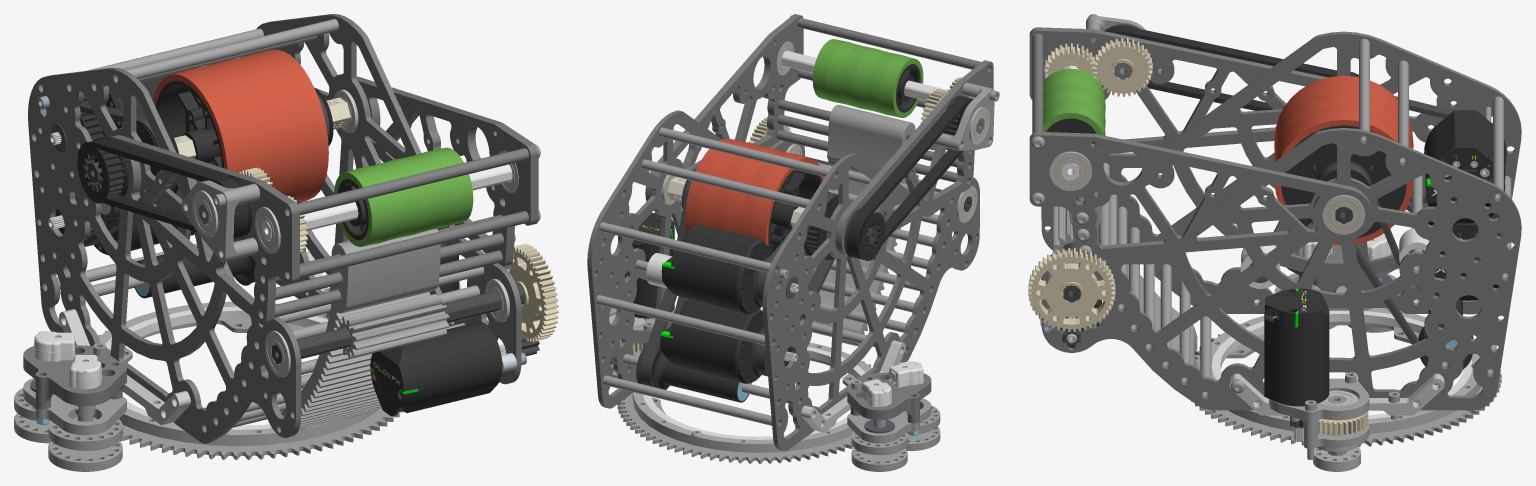
The picture shows the model from 3 angles, left to right: view 1: azimuth 30°, elevation 25°; view 2: azimuth 150°, elevation 25°; view 3: azimuth 270°, elevation 25°; orthographic projection. The views are drawn at different scales.
Parts seen in each view (by area): view 1: Shooter??? (×4), 4" Stealth Wheel (40A, 1/2" Hex Bore) (×3), Spur gear (194 teeth), Rod-Al5*8*174 (×4), Kraken X44 Brushless Motor, 2" Stealth Wheel (35A, 1/2" Hex Bore) (×3), Rod-AL5*8*162 (×5), ????? (×2), Gear, Spur gear (12 teeth), Part-UpBearingHolder, Belt-450-5m-10wide (+14 smaller); view 2: Shooter??? (×4), Rod-AL5*8*162 (×10), Kraken X60 Brushless Motor (×2), 4" Stealth Wheel (40A, 1/2" Hex Bore) (×3), 2" Stealth Wheel (35A, 1/2" Hex Bore) (×3), Spur gear (194 teeth), Rod-Al5*8*174 (×4), Belt-450-5m-10wide, ????? (×2), Part-UpBearingHolder, Gear, MiniIndexer (+14 smaller); view 3: Shooter??? (×4), 4" Stealth Wheel (40A, 1/2" Hex Bore) (×3), Kraken X44 Brushless Motor, Rod-AL5*8*162 (×9), 48t Aluminum Spur Gear (20 DP, 1/2" Hex Bore, VersaKeys), Kraken X60 Brushless Motor (×2), 2" Stealth Wheel (35A, 1/2" Hex Bore) (×3), Gear, Belt-450-5m-10wide, Part-UpBearingHolder, 32t Aluminum Spur Gear (20 DP, 1/2" Hex Bore), 1/2" Rounded Hex (13.75mm) ID Bearing (1.125" OD, 0.313" WD, (×2) (+15 smaller).
Part boxes in pixels (x1=…): Shooter??? (×4): x1=28, y1=14, x2=538, y2=443; 4" Stealth Wheel (40A, 1/2" Hex Bore) (×3): x1=152, y1=49, x2=328, y2=202; Spur gear (194 teeth): x1=281, y1=229, x2=440, y2=429; Rod-Al5*8*174 (×4): x1=274, y1=148, x2=529, y2=317; Kraken X44 Brushless Motor: x1=370, y1=322, x2=506, y2=416; 2" Stealth Wheel (35A, 1/2" Hex Bore) (×3): x1=334, y1=147, x2=473, y2=246; Rod-AL5*8*162 (×5): x1=86, y1=18, x2=484, y2=339; ????? (×2): x1=23, y1=345, x2=126, y2=435; Gear: x1=97, y1=319, x2=404, y2=460; Spur gear (12 teeth): x1=336, y1=294, x2=449, y2=358; Part-UpBearingHolder: x1=98, y1=301, x2=381, y2=446; Belt-450-5m-10wide: x1=89, y1=138, x2=248, y2=238; Shooter??? (×4): x1=587, y1=14, x2=993, y2=451; Rod-AL5*8*162 (×10): x1=596, y1=127, x2=919, y2=425; Kraken X60 Brushless Motor (×2): x1=660, y1=224, x2=799, y2=383; 4" Stealth Wheel (40A, 1/2" Hex Bore) (×3): x1=685, y1=138, x2=824, y2=256; 2" Stealth Wheel (35A, 1/2" Hex Bore) (×3): x1=812, y1=39, x2=923, y2=117; Spur gear (194 teeth): x1=812, y1=104, x2=915, y2=346; Rod-Al5*8*174 (×4): x1=776, y1=18, x2=981, y2=182; Belt-450-5m-10wide: x1=847, y1=96, x2=973, y2=259; ????? (×2): x1=847, y1=372, x2=931, y2=443; Part-UpBearingHolder: x1=632, y1=342, x2=871, y2=452; Gear: x1=617, y1=358, x2=872, y2=463; MiniIndexer: x1=636, y1=343, x2=751, y2=402; Shooter??? (×4): x1=1029, y1=27, x2=1521, y2=410; 4" Stealth Wheel (40A, 1/2" Hex Bore) (×3): x1=1274, y1=75, x2=1413, y2=244; Kraken X44 Brushless Motor: x1=1264, y1=288, x2=1329, y2=441; Rod-AL5*8*162 (×9): x1=1098, y1=39, x2=1503, y2=396; 48t Aluminum Spur Gear (20 DP, 1/2" Hex Bore, VersaKeys): x1=1028, y1=248, x2=1115, y2=332; Kraken X60 Brushless Motor (×2): x1=1424, y1=110, x2=1506, y2=300; 2" Stealth Wheel (35A, 1/2" Hex Bore) (×3): x1=1043, y1=68, x2=1105, y2=143; Gear: x1=1191, y1=321, x2=1501, y2=447; Belt-450-5m-10wide: x1=1106, y1=26, x2=1358, y2=110; Part-UpBearingHolder: x1=1211, y1=308, x2=1480, y2=433; 32t Aluminum Spur Gear (20 DP, 1/2" Hex Bore): x1=1093, y1=37, x2=1152, y2=96; 1/2" Rounded Hex (13.75mm) ID Bearing (1.125" OD, 0.313" WD, (×2): x1=1049, y1=151, x2=1365, y2=234.
Size of the model in its own units: 0.3075 by 0.2525 by 0.3594.
